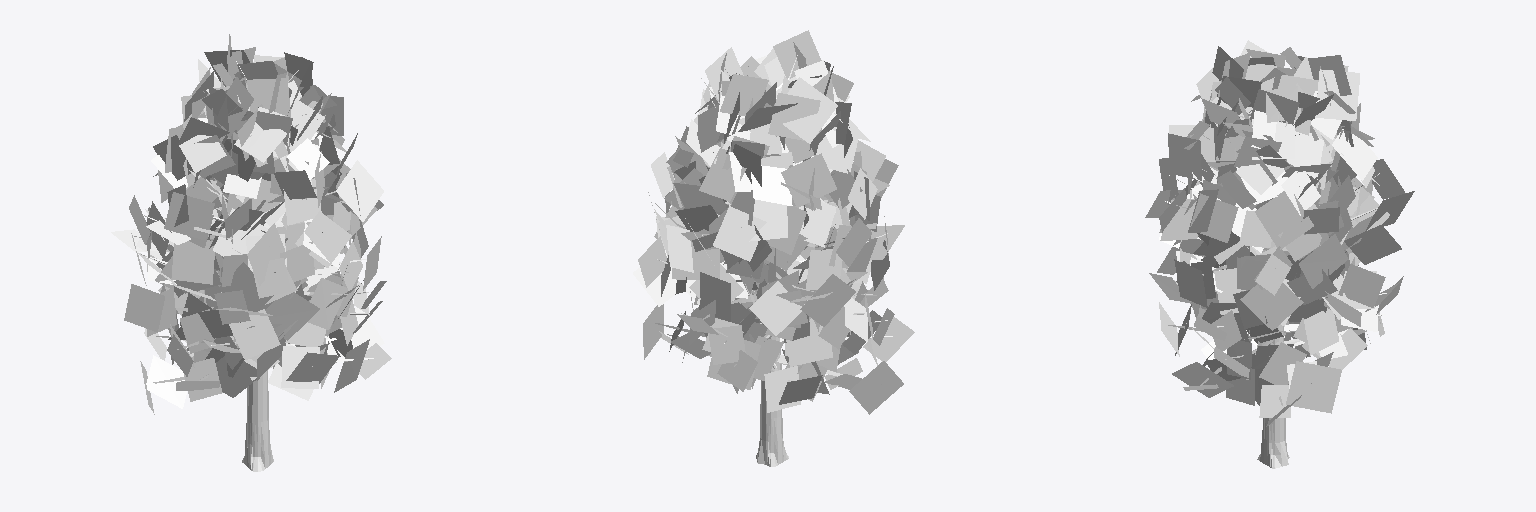
The model's file is Conker_Tree_Model_0.obj.
The picture shows the model from 3 angles: view 1: azimuth 30°, elevation 25°; view 2: azimuth 150°, elevation 25°; view 3: azimuth 270°, elevation 25°; orthographic projection.
Visible parts, largest first — view 1: Foliage__leafcard, Bark; view 2: Foliage__leafcard, Bark; view 3: Foliage__leafcard, Bark.
Part boxes in pixels (left/top/right/bottom): Foliage__leafcard: left=111, top=34, right=391, bottom=414; Bark: left=134, top=61, right=373, bottom=471; Foliage__leafcard: left=633, top=30, right=914, bottom=414; Bark: left=655, top=55, right=892, bottom=466; Foliage__leafcard: left=1145, top=40, right=1414, bottom=426; Bark: left=1164, top=80, right=1386, bottom=468.
Size of the model in its own units: 18.62 by 30 by 17.87.